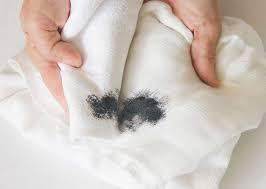ink: (88, 93, 164, 125)
